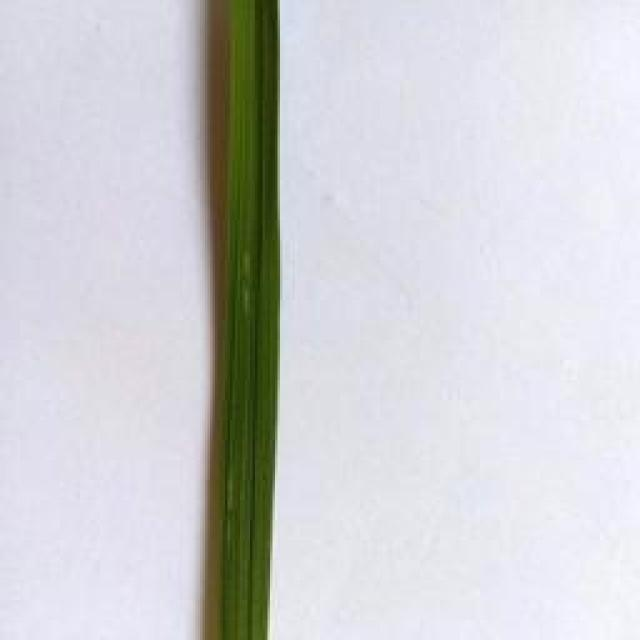Healthy-Plant: (218, 0, 282, 640)
